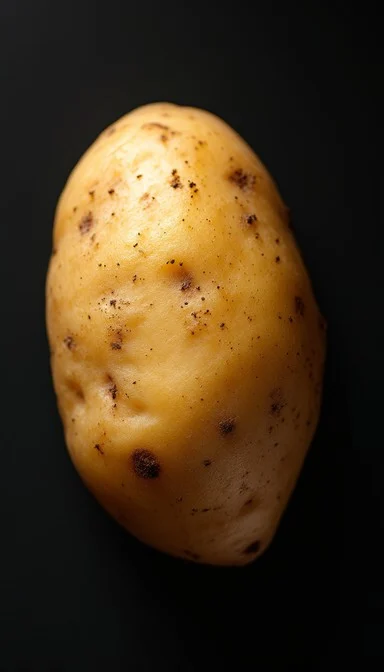potato: (44, 93, 320, 578)
